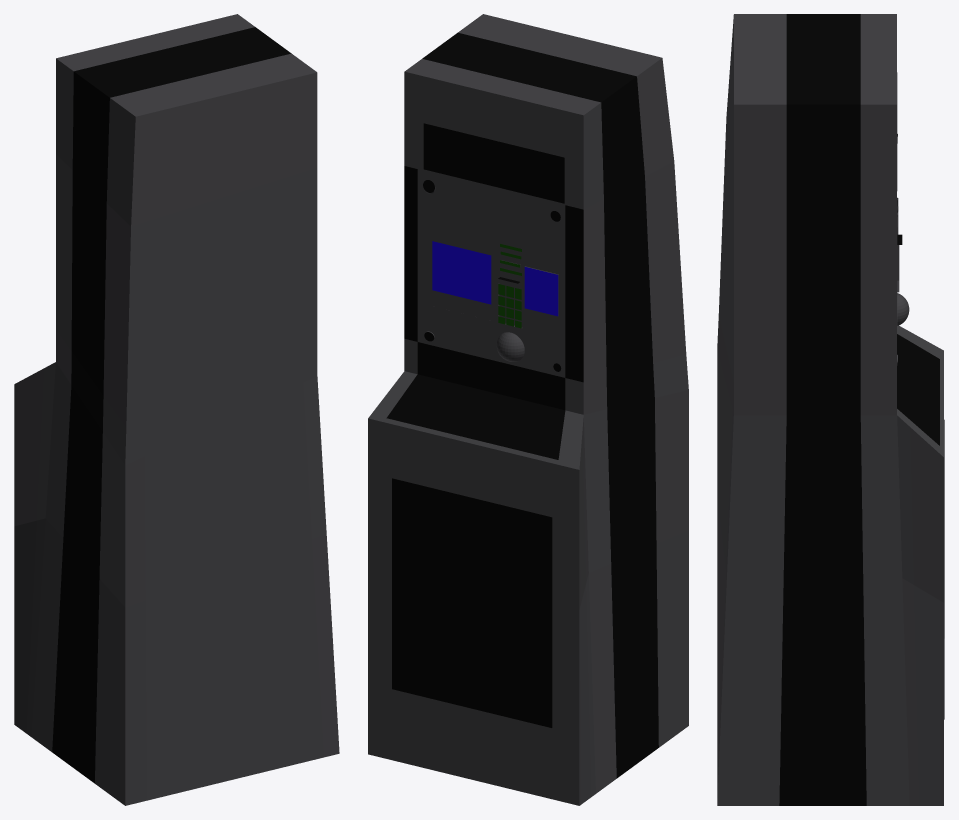
Rendered from Atm.fbx.
3 renders of one model, left to right at view 1: azimuth 30°, elevation 25°; view 2: azimuth 150°, elevation 25°; view 3: azimuth 270°, elevation 25°, orthographic. The views are drawn at different scales.
Visible parts, largest first — view 1: Cube; view 2: Cube; view 3: Cube.
Part boxes in pixels (left/top/right/bottom): Cube: left=14, top=14, right=339, bottom=805; Cube: left=368, top=14, right=688, bottom=805; Cube: left=717, top=14, right=944, bottom=805.
Bounding box in the file's own units: 264 × 798 × 237.
